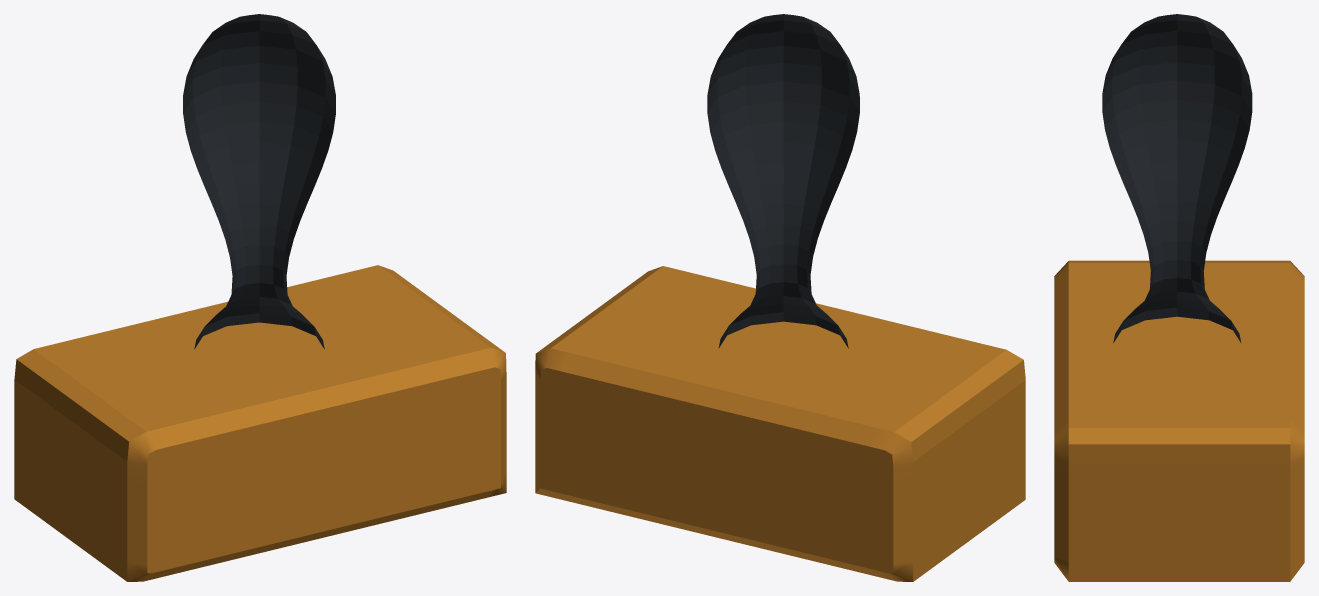
Rendered from stamp.obj.
3 views of the same model, side by side, from view 1: azimuth 30°, elevation 25°; view 2: azimuth 150°, elevation 25°; view 3: azimuth 270°, elevation 25° (orthographic).
Visible parts, largest first — view 1: Extrude, Cap_1, Lathe, Rounding_1; view 2: Extrude, Cap_2, Lathe, Rounding_2; view 3: Extrude, Lathe, Rounding_1, Rounding_2.
Part boxes in pixels (x1,y1,x2,y2): Extrude: (14,265,505,581); Cap_1: (147,367,500,573); Lathe: (183,14,335,349); Rounding_1: (127,347,506,581); Extrude: (536,266,1025,581); Cap_2: (540,368,893,573); Lathe: (707,14,859,348); Rounding_2: (535,348,913,581); Extrude: (1068,260,1290,581); Lathe: (1102,14,1252,342); Rounding_1: (1054,261,1068,581); Rounding_2: (1290,261,1304,581).
Bounding box in the file's own units: 166 × 201 × 96.76.
